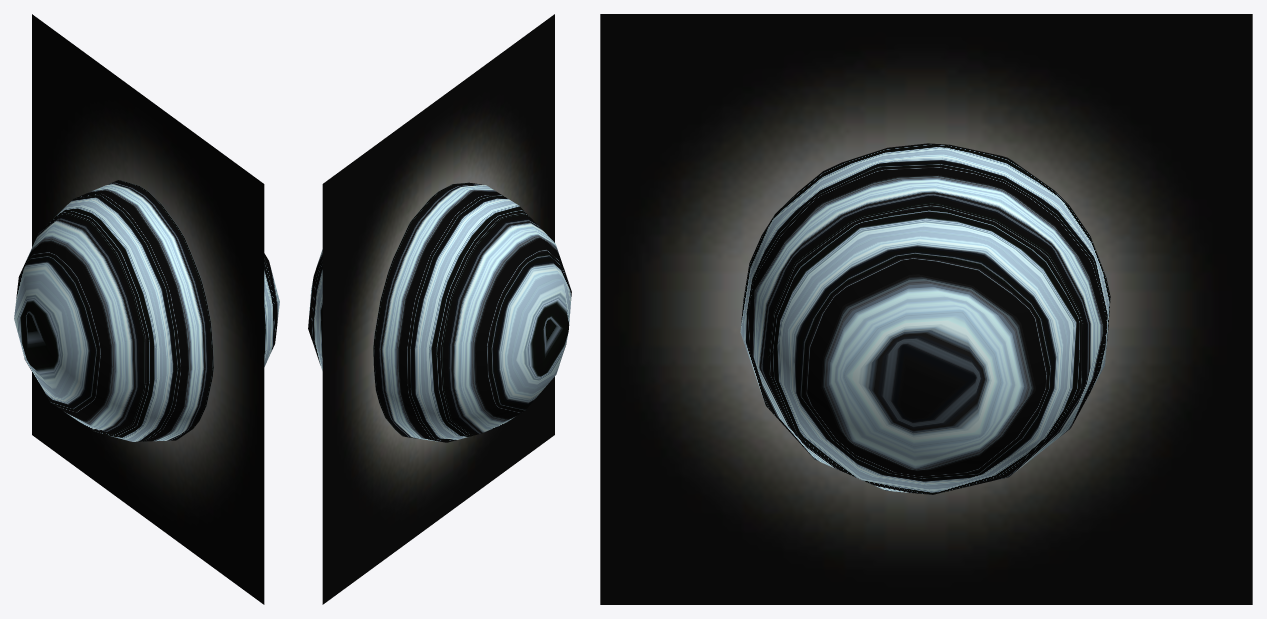
The model's file is ShieldRechargeAnimated.fbx.
The picture shows the model from 3 angles, left to right: view 1: azimuth 30°, elevation 25°; view 2: azimuth 150°, elevation 25°; view 3: azimuth 270°, elevation 25°; orthographic projection. The views are drawn at different scales.
Parts seen in each view (by area): view 1: BOX03, GEOSPHERE01; view 2: BOX03, GEOSPHERE01; view 3: BOX03, GEOSPHERE01.
Boxes of the visible parts, bbox=[...] form: BOX03: bbox=[32, 14, 264, 604]; GEOSPHERE01: bbox=[14, 180, 279, 441]; BOX03: bbox=[322, 14, 554, 604]; GEOSPHERE01: bbox=[308, 182, 571, 442]; BOX03: bbox=[600, 14, 1252, 604]; GEOSPHERE01: bbox=[740, 143, 1110, 494].
Bounding box in the file's own units: 197 × 348 × 348.
2 materials, 2 textured.
